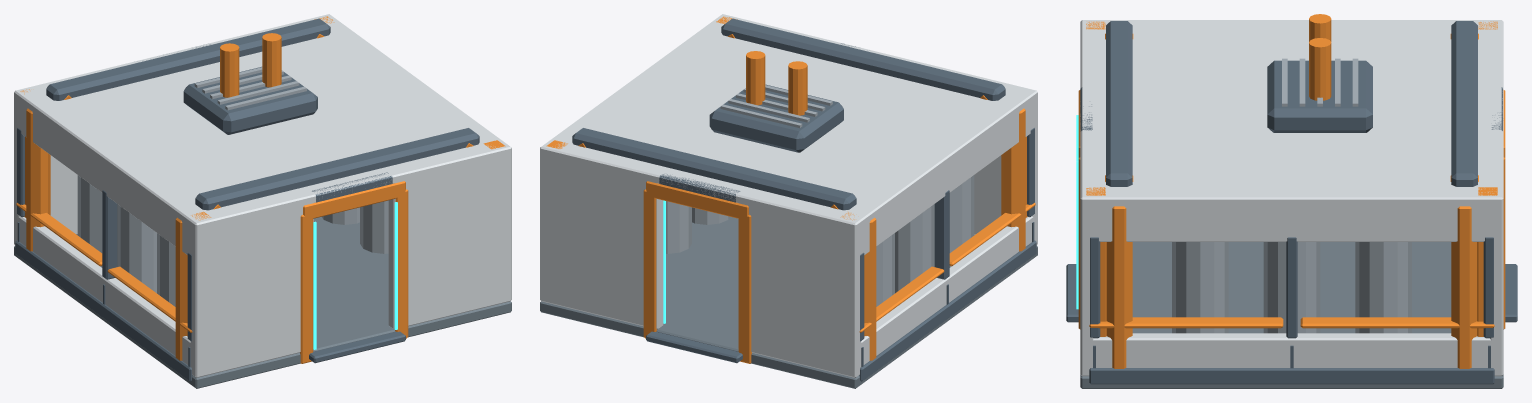
File: room-LifeSupportRoom.fbx
3 views of the same model, side by side, from view 1: azimuth 30°, elevation 25°; view 2: azimuth 150°, elevation 25°; view 3: azimuth 270°, elevation 25° (orthographic). The views are drawn at different scales.
Parts seen in each view (by area): view 1: room-LifeSupportRoom_Roof.001, room-LifeSupportRoom_End panel.005, room-LifeSupportRoom_End panel.004, room-LifeSupportRoom_Deck.001, room-LifeSupportRoom_Window sill.002, room-LifeSupportRoom_Roof cross brace, room-LifeSupportRoom_Window head.002, room-LifeSupportRoom_Roof cross brace.001, room-LifeSupportRoom_Roof service pod, room-LifeSupportRoom_Lower armour band, room-LifeSupportRoom_Oxygen reservoir.007, room-LifeSupportRoom_Armoured corner post.002 (+21 smaller); view 2: room-LifeSupportRoom_Roof.001, room-LifeSupportRoom_End panel.007, room-LifeSupportRoom_End panel.006, room-LifeSupportRoom_Deck.001, room-LifeSupportRoom_Roof cross brace, room-LifeSupportRoom_Roof cross brace.001, room-LifeSupportRoom_Window sill.002, room-LifeSupportRoom_Window head.002, room-LifeSupportRoom_Roof service pod, room-LifeSupportRoom_Lower armour band, room-LifeSupportRoom_Oxygen reservoir.007, room-LifeSupportRoom_Armoured corner post (+19 smaller); view 3: room-LifeSupportRoom_Roof.001, room-LifeSupportRoom_Deck.001, room-LifeSupportRoom_Window head.003, room-LifeSupportRoom_Window sill.003, room-LifeSupportRoom_Lower armour band.001, room-LifeSupportRoom_Roof service pod, room-LifeSupportRoom_Oxygen reservoir.009, room-LifeSupportRoom_Oxygen reservoir.011, room-LifeSupportRoom_Roof cross brace, room-LifeSupportRoom_Roof cross brace.001, room-LifeSupportRoom_Oxygen reservoir.010, room-LifeSupportRoom_Armoured corner post.003 (+17 smaller).
Boxes of the visible parts, left/top/right/bottom form: room-LifeSupportRoom_Roof.001: left=14, top=14, right=511, bottom=230; room-LifeSupportRoom_End panel.005: left=388, top=153, right=511, bottom=329; room-LifeSupportRoom_End panel.004: left=190, top=202, right=313, bottom=377; room-LifeSupportRoom_Deck.001: left=14, top=217, right=511, bottom=388; room-LifeSupportRoom_Window sill.002: left=14, top=214, right=204, bottom=377; room-LifeSupportRoom_Roof cross brace: left=195, top=128, right=479, bottom=210; room-LifeSupportRoom_Window head.002: left=14, top=98, right=204, bottom=260; room-LifeSupportRoom_Roof cross brace.001: left=46, top=18, right=330, bottom=100; room-LifeSupportRoom_Roof service pod: left=183, top=66, right=317, bottom=134; room-LifeSupportRoom_Lower armour band: left=15, top=240, right=192, bottom=381; room-LifeSupportRoom_Oxygen reservoir.007: left=117, top=204, right=156, bottom=293; room-LifeSupportRoom_Armoured corner post.002: left=26, top=108, right=50, bottom=251; room-LifeSupportRoom_Roof.001: left=540, top=14, right=1037, bottom=230; room-LifeSupportRoom_End panel.007: left=540, top=153, right=663, bottom=329; room-LifeSupportRoom_End panel.006: left=738, top=202, right=861, bottom=377; room-LifeSupportRoom_Deck.001: left=540, top=217, right=1037, bottom=388; room-LifeSupportRoom_Roof cross brace: left=721, top=18, right=1005, bottom=100; room-LifeSupportRoom_Roof cross brace.001: left=572, top=128, right=856, bottom=210; room-LifeSupportRoom_Window sill.002: left=856, top=214, right=1037, bottom=376; room-LifeSupportRoom_Window head.002: left=847, top=98, right=1037, bottom=259; room-LifeSupportRoom_Roof service pod: left=709, top=84, right=843, bottom=152; room-LifeSupportRoom_Lower armour band: left=859, top=240, right=1036, bottom=381; room-LifeSupportRoom_Oxygen reservoir.007: left=895, top=204, right=934, bottom=293; room-LifeSupportRoom_Armoured corner post: left=1001, top=108, right=1025, bottom=251; room-LifeSupportRoom_Roof.001: left=1080, top=20, right=1503, bottom=206; room-LifeSupportRoom_Deck.001: left=1080, top=242, right=1503, bottom=388; room-LifeSupportRoom_Window head.003: left=1080, top=205, right=1503, bottom=241; room-LifeSupportRoom_Window sill.003: left=1082, top=333, right=1503, bottom=376; room-LifeSupportRoom_Lower armour band.001: left=1089, top=368, right=1494, bottom=384; room-LifeSupportRoom_Roof service pod: left=1267, top=60, right=1372, bottom=132; room-LifeSupportRoom_Oxygen reservoir.009: left=1172, top=242, right=1228, bottom=333; room-LifeSupportRoom_Oxygen reservoir.011: left=1355, top=242, right=1411, bottom=333; room-LifeSupportRoom_Roof cross brace: left=1106, top=21, right=1132, bottom=186; room-LifeSupportRoom_Roof cross brace.001: left=1451, top=21, right=1477, bottom=186; room-LifeSupportRoom_Oxygen reservoir.010: left=1263, top=242, right=1320, bottom=333; room-LifeSupportRoom_Armoured corner post.003: left=1451, top=206, right=1477, bottom=368.
Size of the model in its own units: 610 by 422 by 640.
